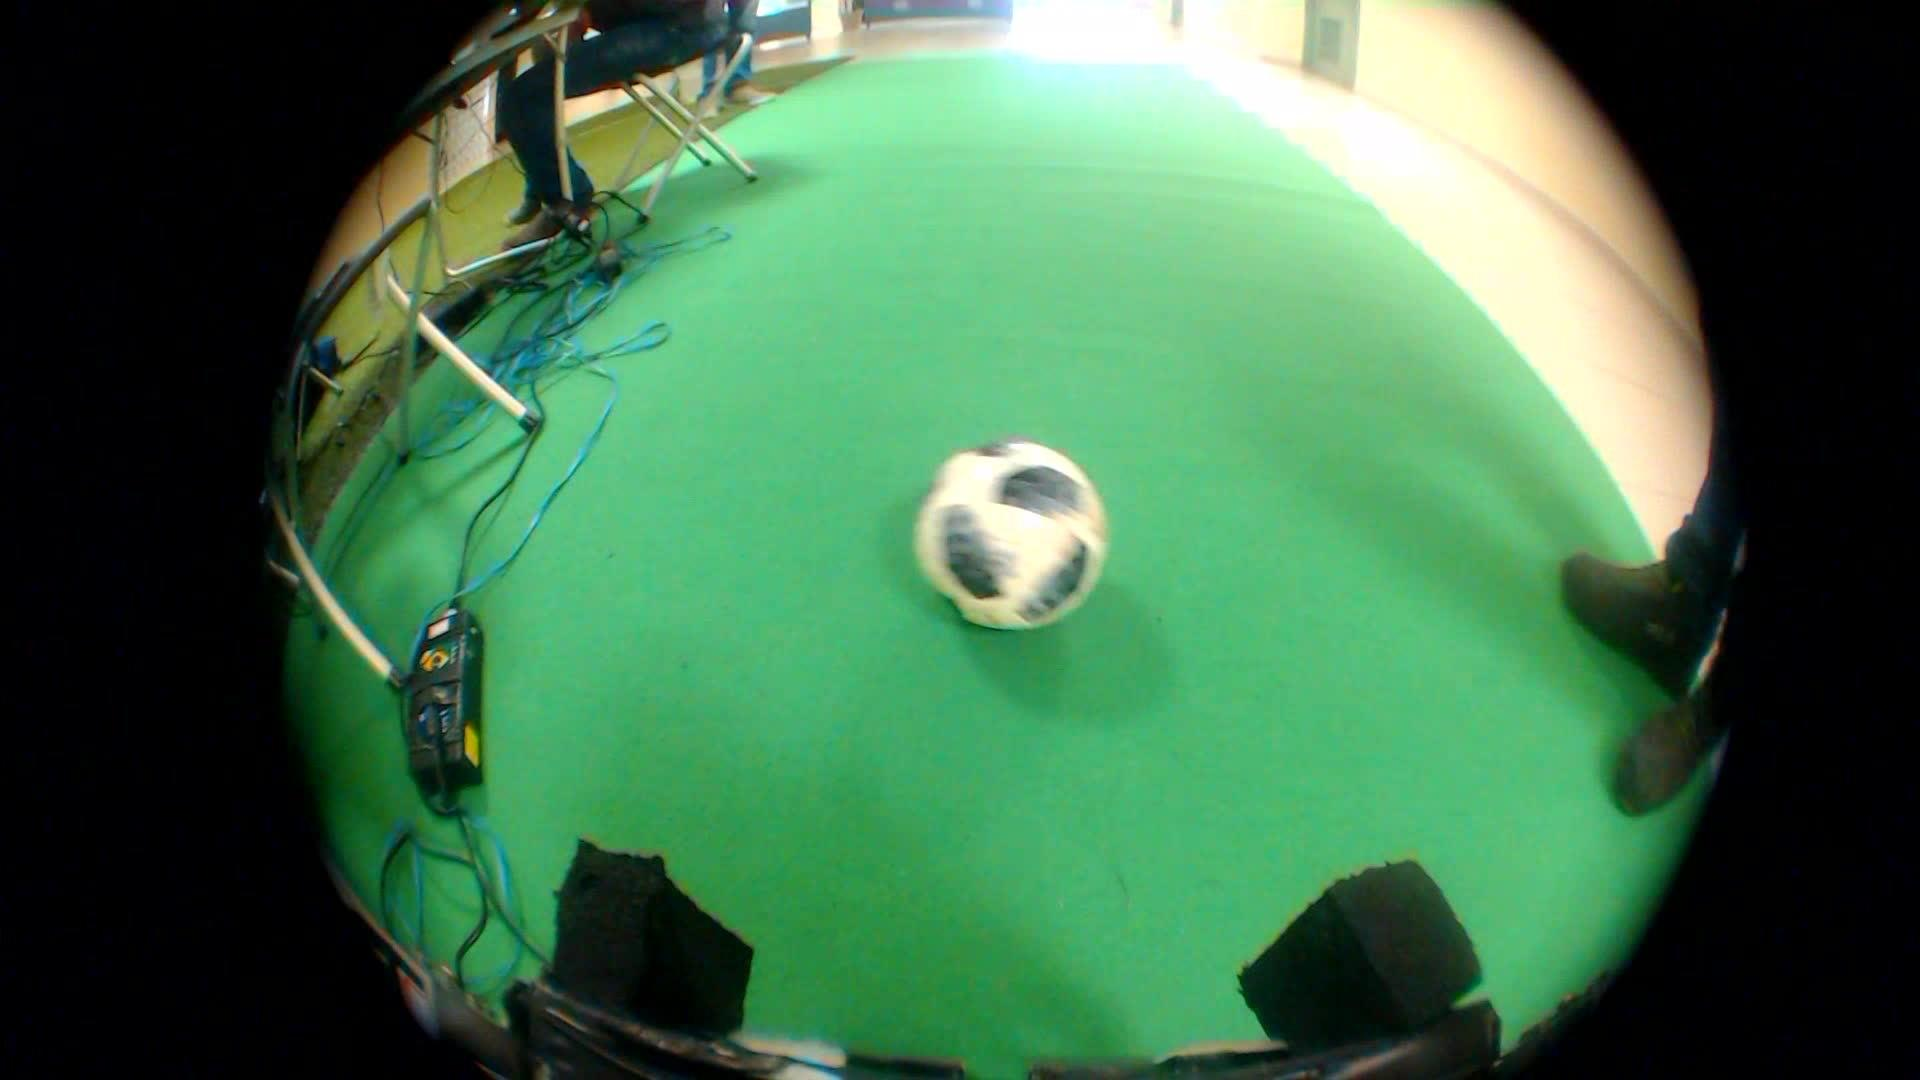ball: (887, 419, 1143, 650)
